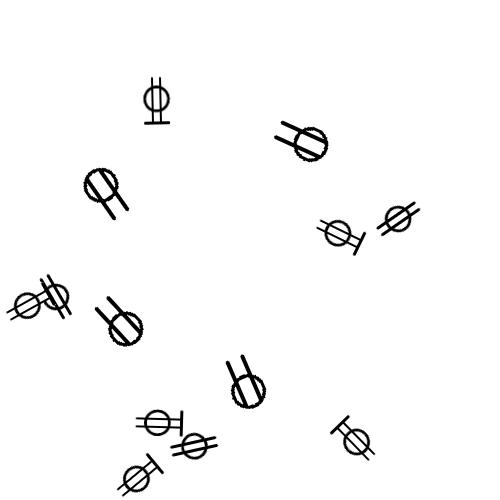Duplex-Receptacle: (216, 366, 275, 402), (91, 305, 150, 341), (76, 174, 135, 210), (274, 123, 333, 159), (130, 84, 182, 117), (133, 407, 185, 440), (313, 218, 365, 251), (112, 462, 164, 495), (330, 424, 382, 457), (3, 289, 55, 322), (167, 432, 220, 463), (28, 281, 81, 312), (372, 202, 425, 233)
